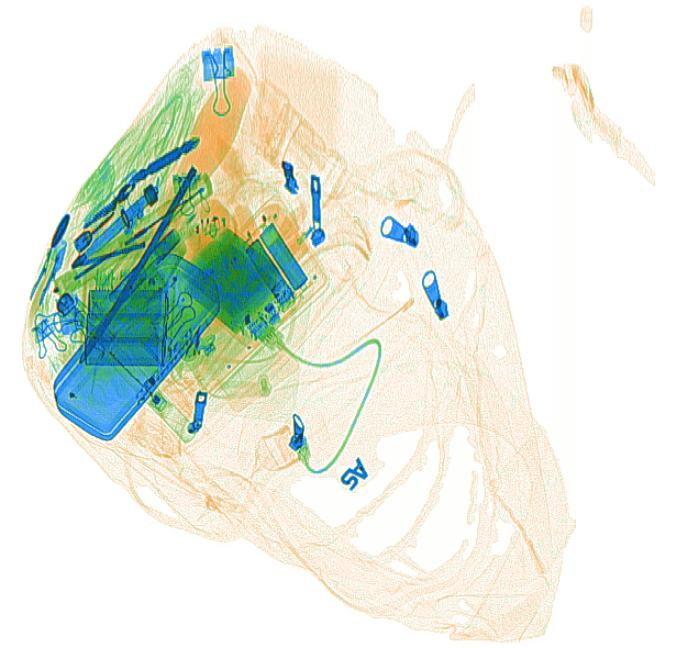battery: (81, 268, 171, 370), (242, 221, 309, 310)
